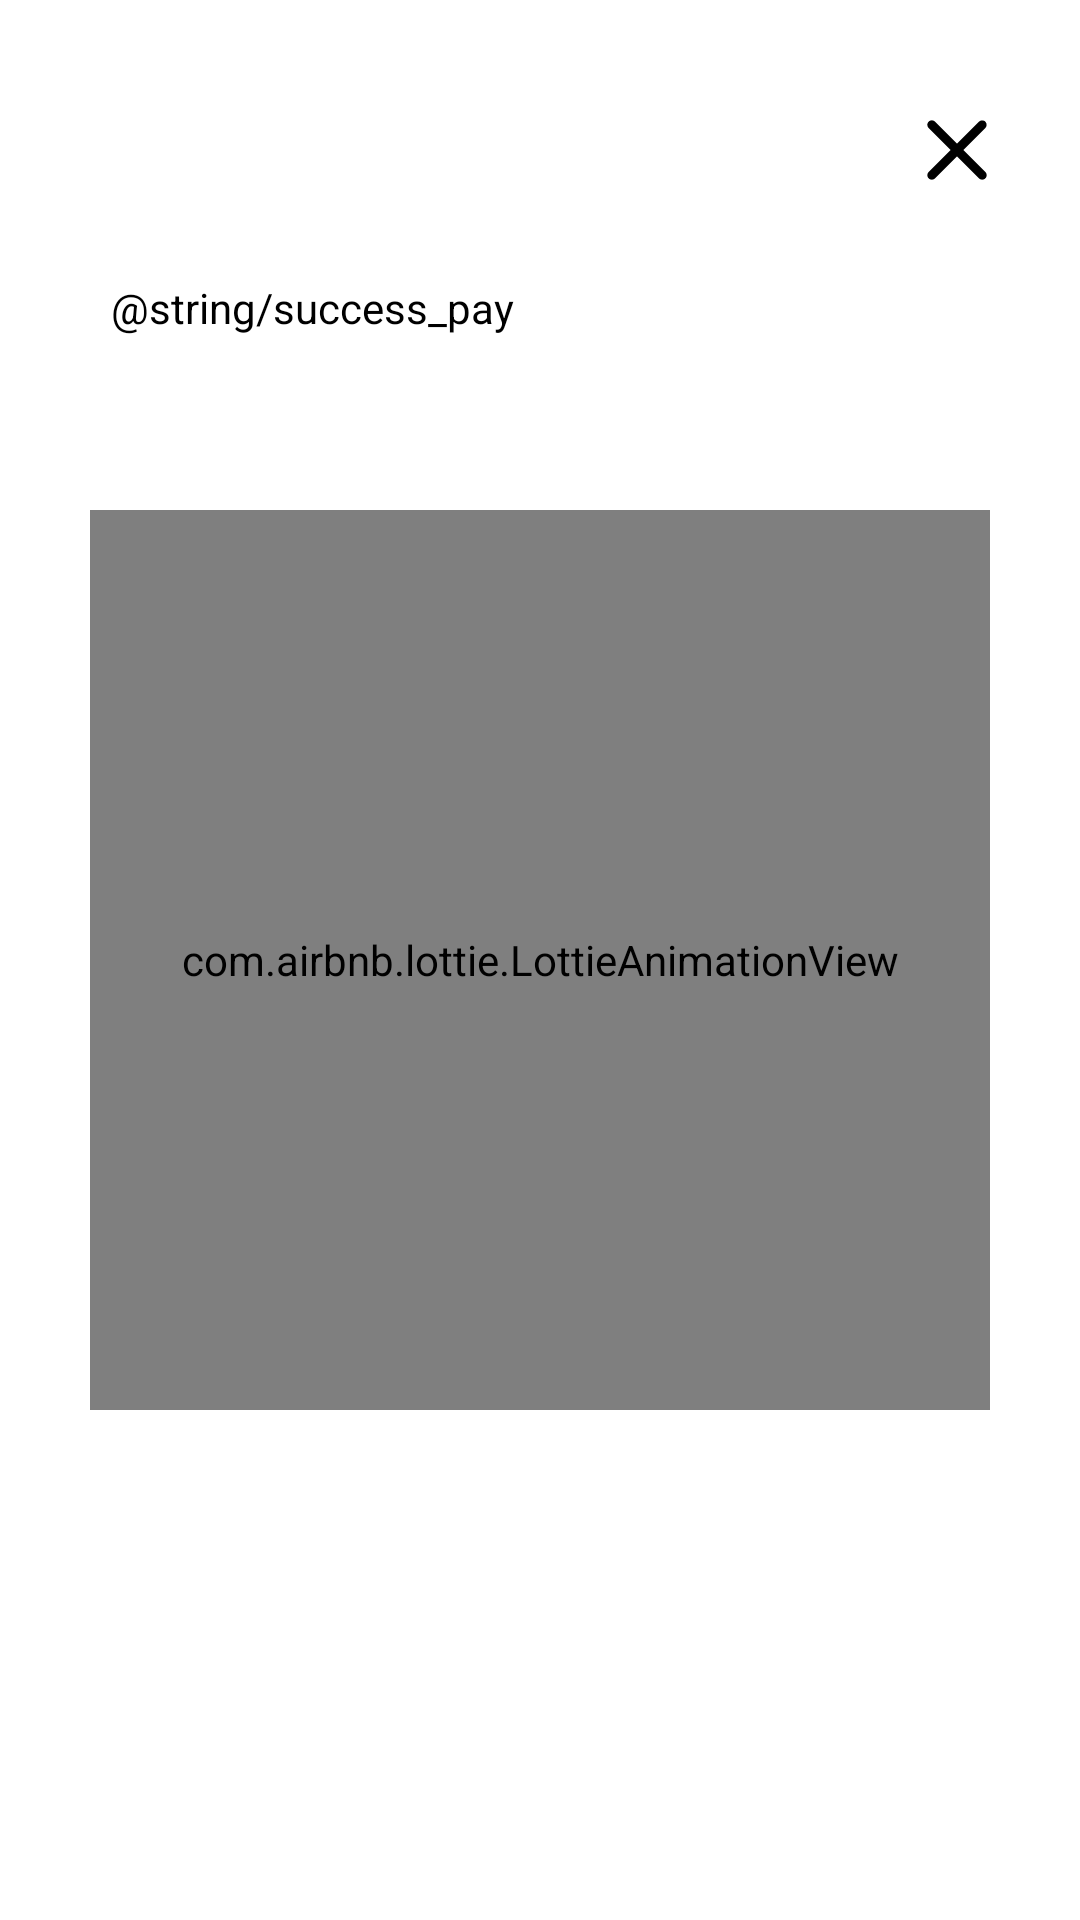

Icons on this 1080w x 1920h Android screen, each with its box as [x1=x1, y1=y1, x2=x2, y2=y2]:
close: [x1=927, y1=120, x2=987, y2=180]
